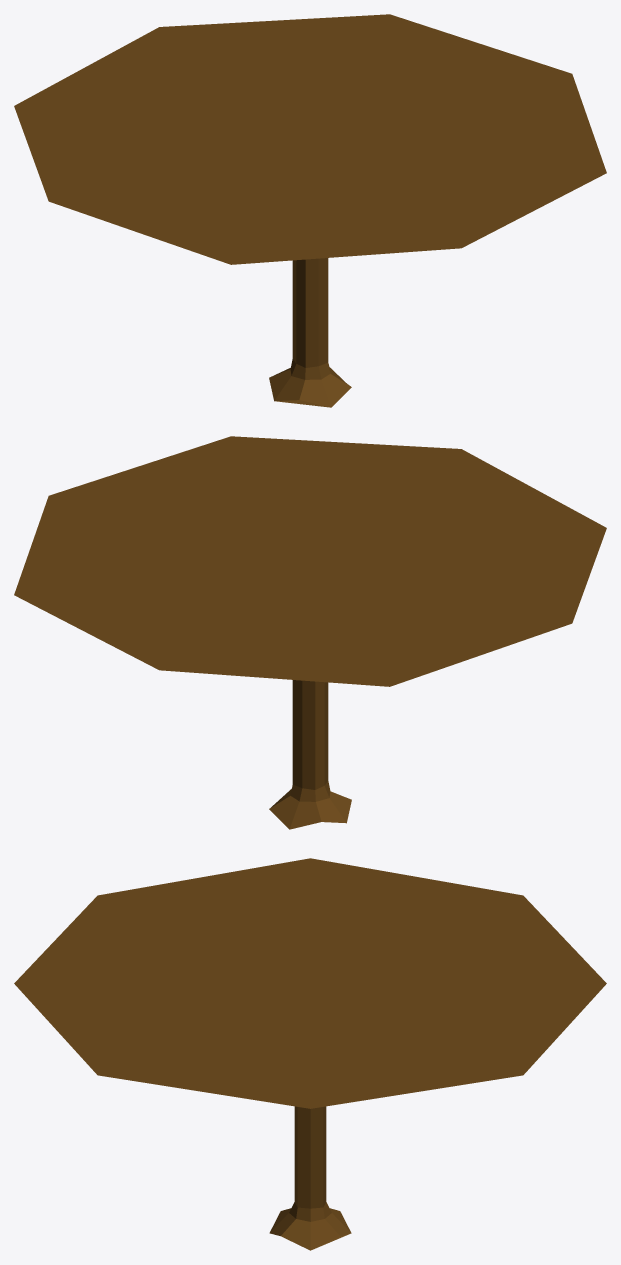
Rendered from Table.glb.
3 renders of one model, top to bottom at view 1: azimuth 30°, elevation 25°; view 2: azimuth 150°, elevation 25°; view 3: azimuth 270°, elevation 25°, orthographic.
Parts seen in each view (by area): view 1: Cube; view 2: Cube; view 3: Cube.
Part boxes in pixels (x1,y1,x2,y2): Cube: (14,14,606,407); Cube: (14,436,606,829); Cube: (14,858,606,1250).
Bounding box in the file's own units: 41.34 × 19.21 × 41.34.
